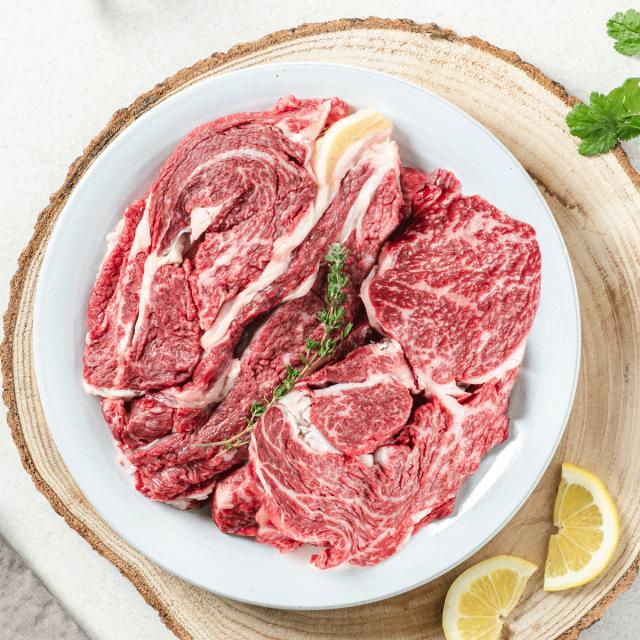beef: (131, 202, 285, 357), (370, 270, 486, 446)
